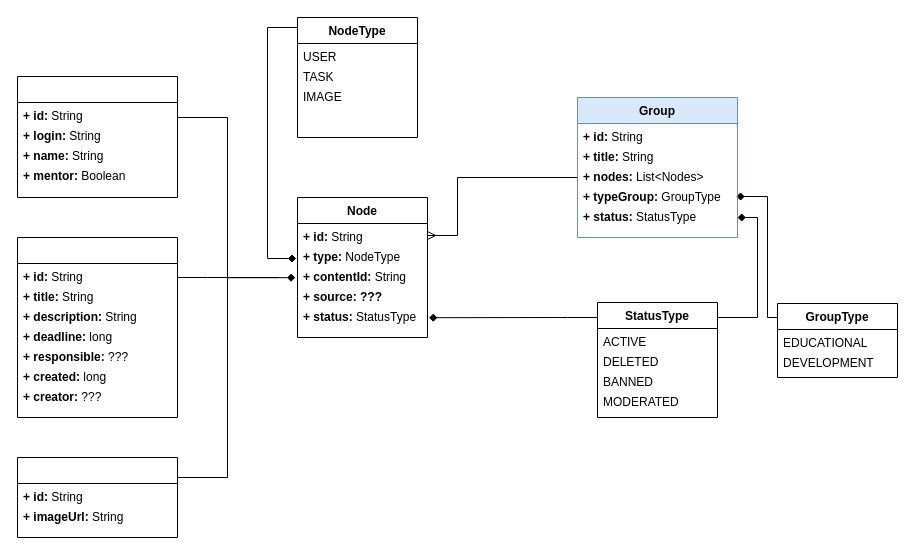
This 915x555 diagram has some shape labels left out. The box of each missing label's shape, as (x1, y1, x2, y2) in pixels:
ImageNode: (16, 456, 178, 538)
TaskNode: (16, 236, 178, 418)
UserNode: (16, 76, 178, 198)
